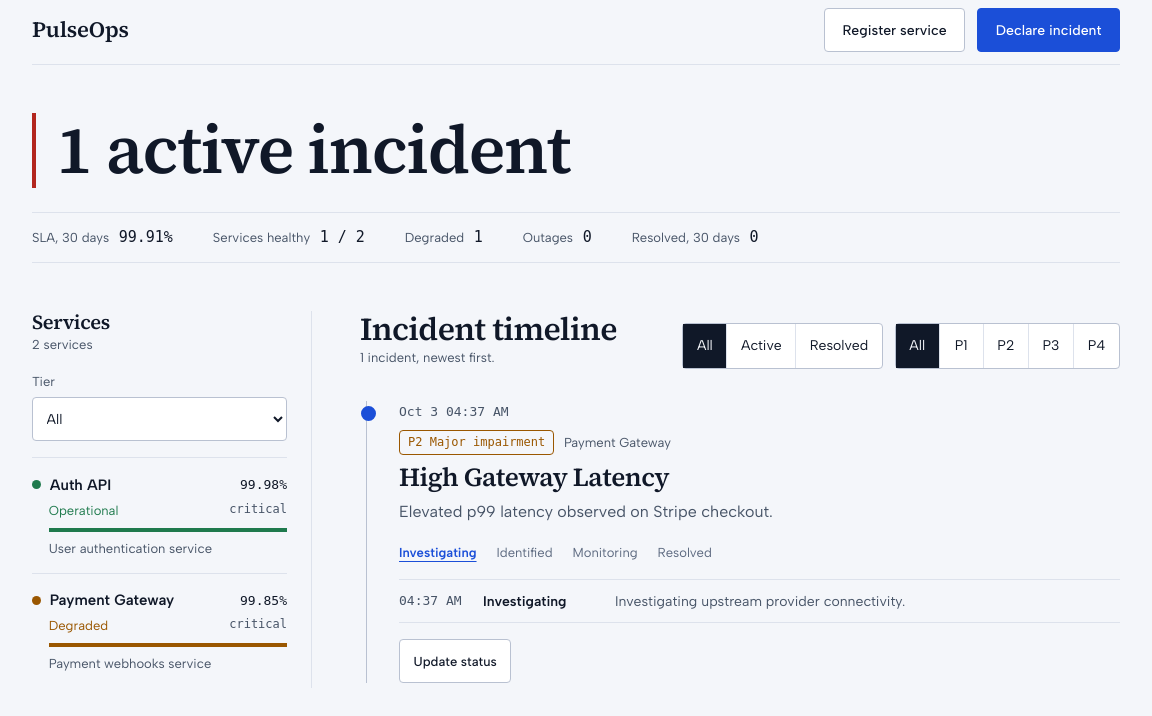
PulseOps Frontend App › keeps the last complete snapshot after a failed refresh and retries reads only
Check: the text "Auth API" is shown, box [50,476,111,494]
Click the button "Register service" at (895, 30), box [824,8,965,52]
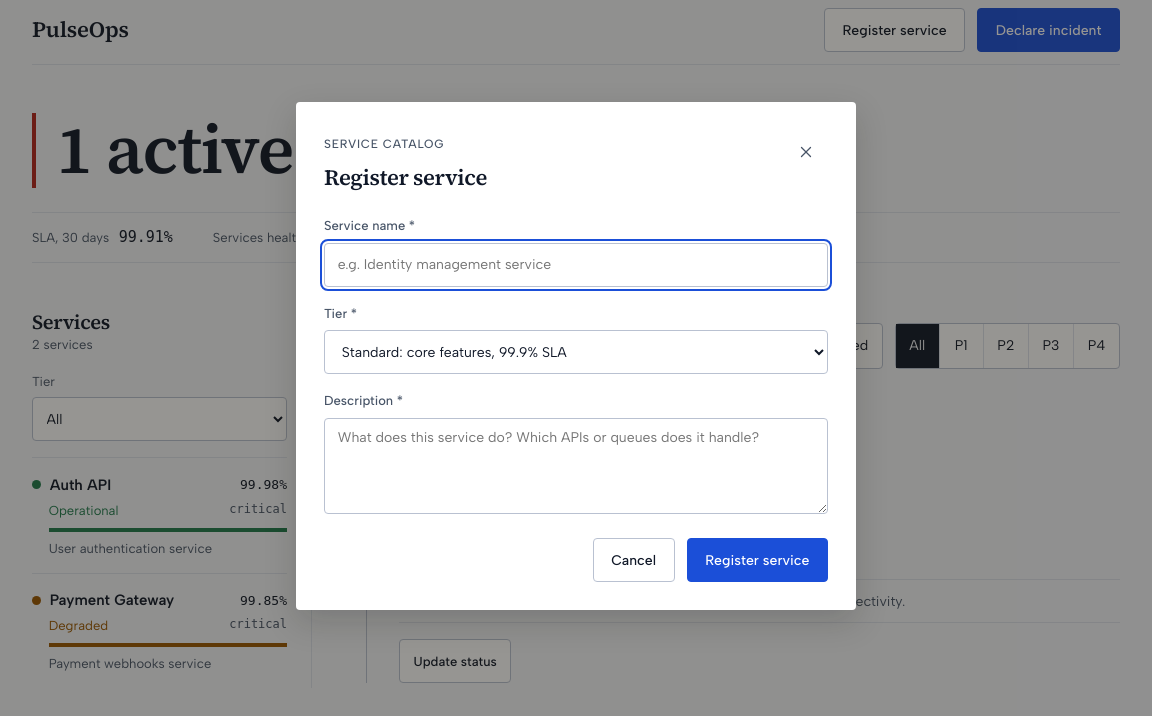
Type "Search API" into the field labelled "Service name *" at (576, 265), box [324,243,828,287]
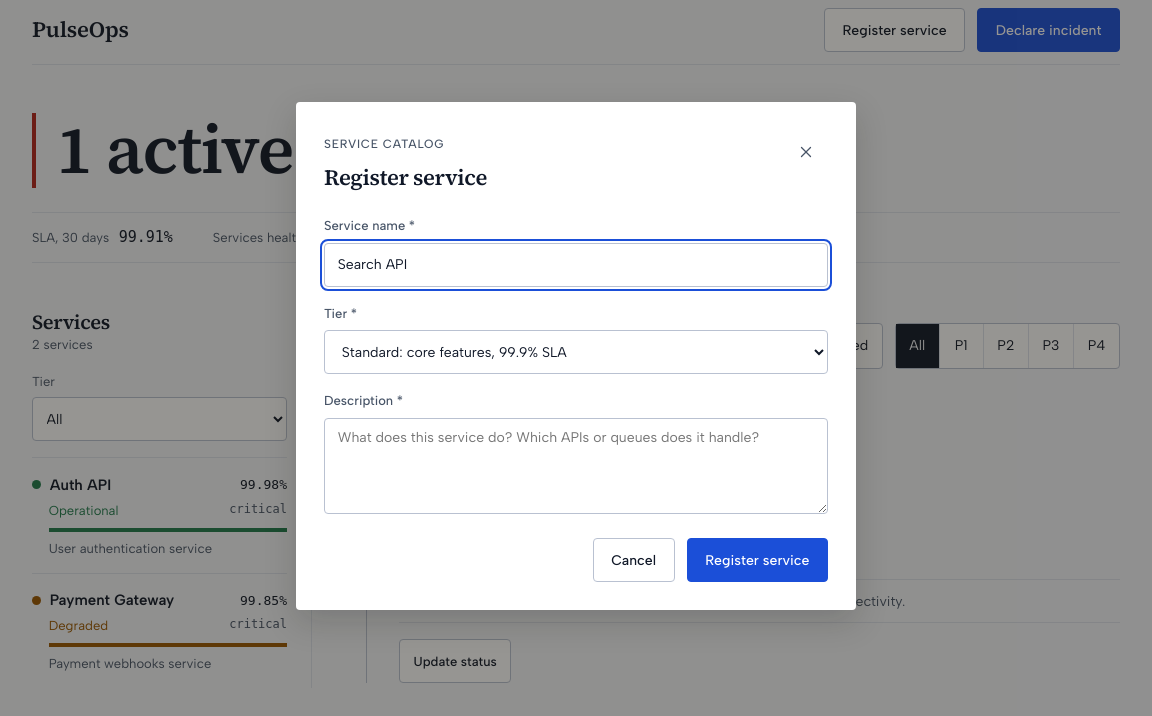
Type "Search service" into the text box labelled "Description *" at (576, 466), box [324,418,828,514]
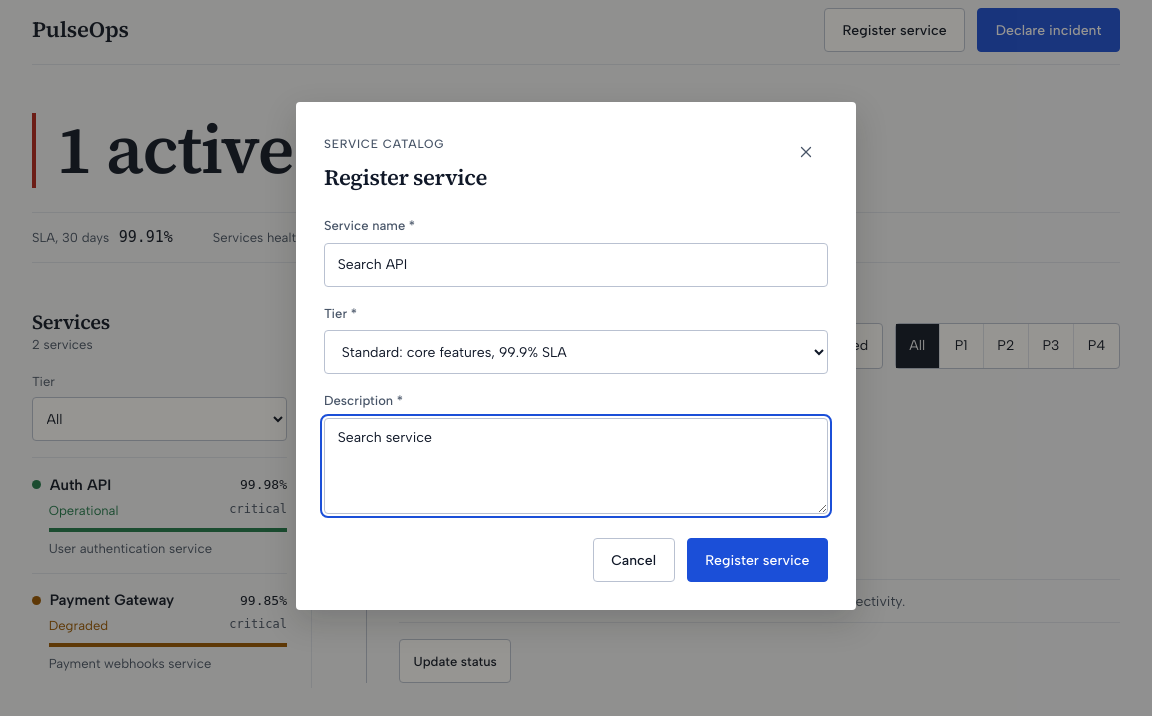
Click the button "Register service" at (757, 560), box [687,538,828,582]
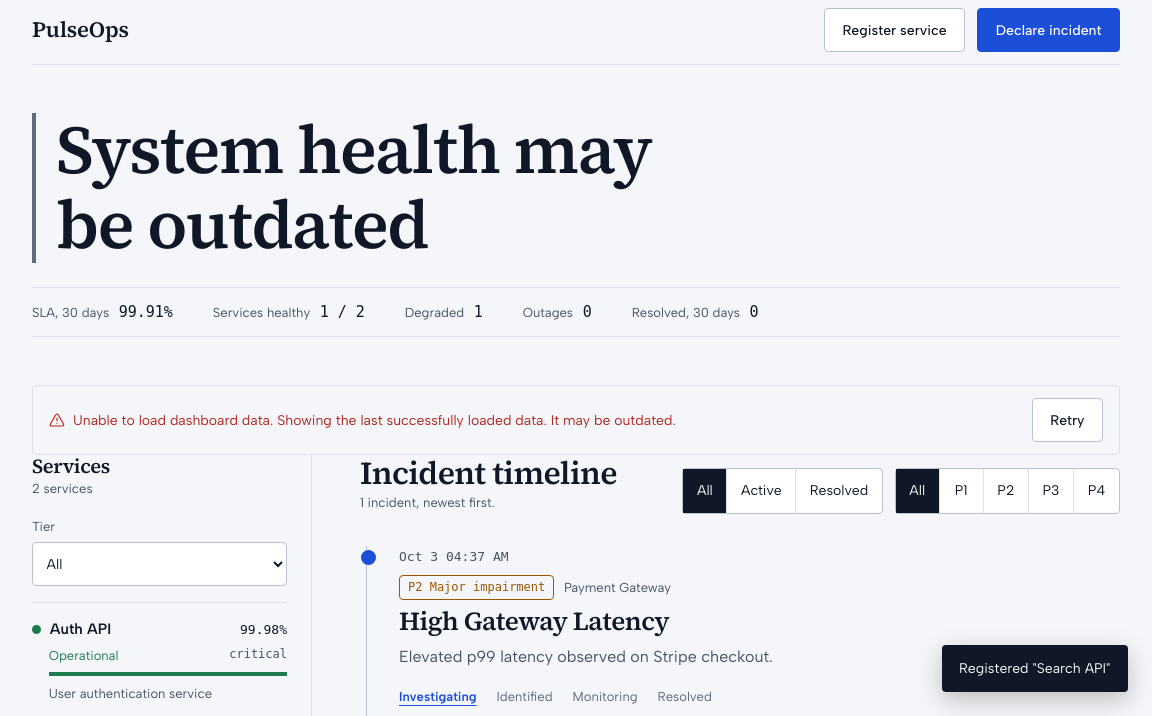
Check: the message that starts with "Unable to load dashboard data." shows "Showing the last successfully loaded data. It may be outdated.", box [277,412,676,429]
Check: the heading "System health may be outdated" is shown, box [32,113,702,263]
Check: the dialog is gone
Click the button "Retry" at (1067, 420), box [1032,398,1103,442]
(page scrolled)
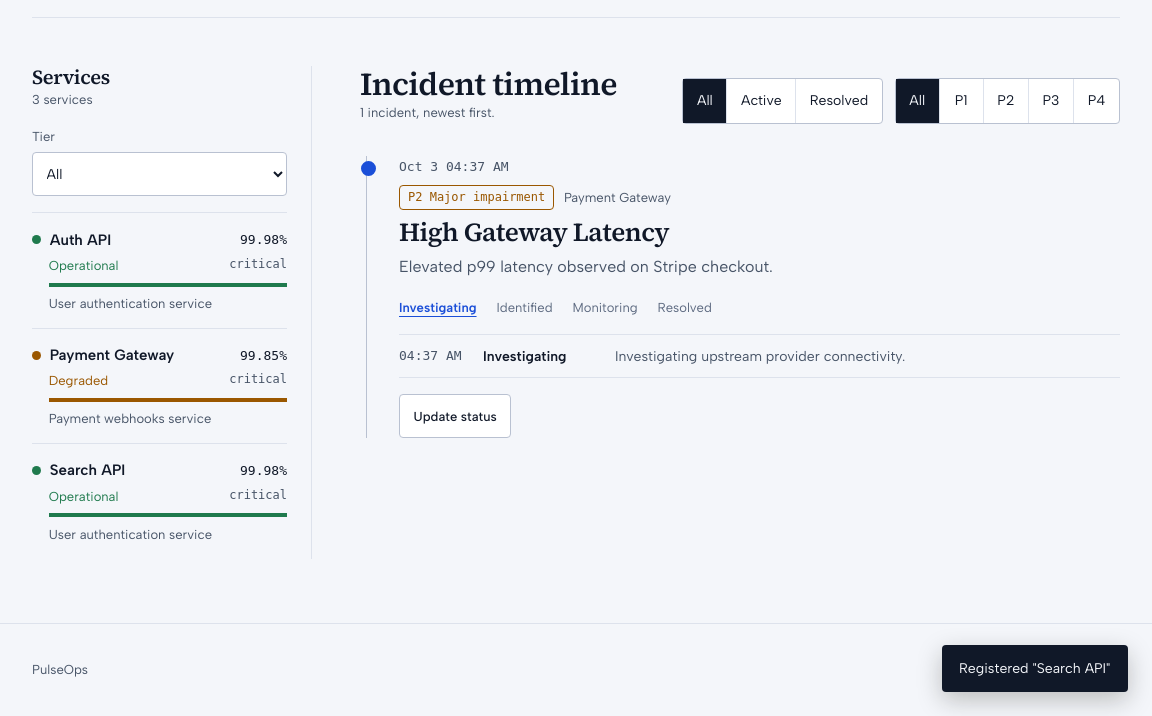
Check: the text "Search API" is shown, box [50,462,125,480]
